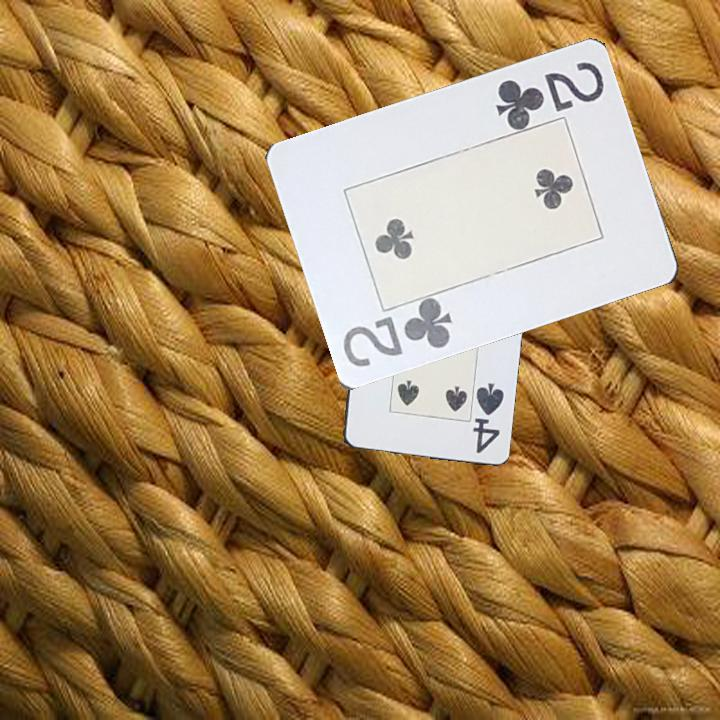2c: (339, 296, 455, 371), (491, 58, 607, 130)
4s: (469, 377, 506, 456)
